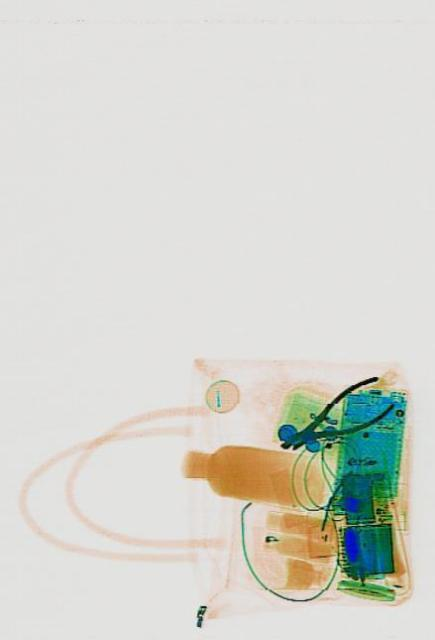Pliers: (273, 366, 395, 468)
